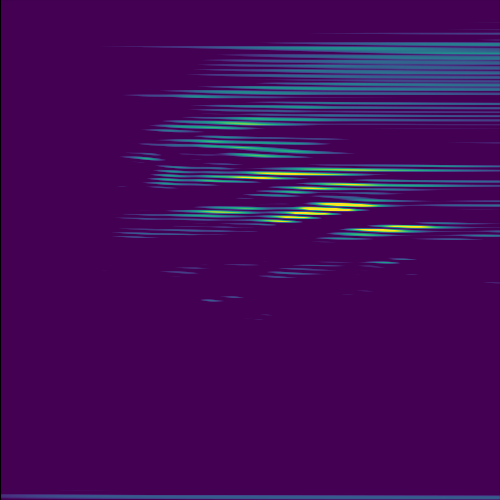semblance: (229, 160, 385, 188), (264, 196, 381, 229), (338, 217, 444, 244)
